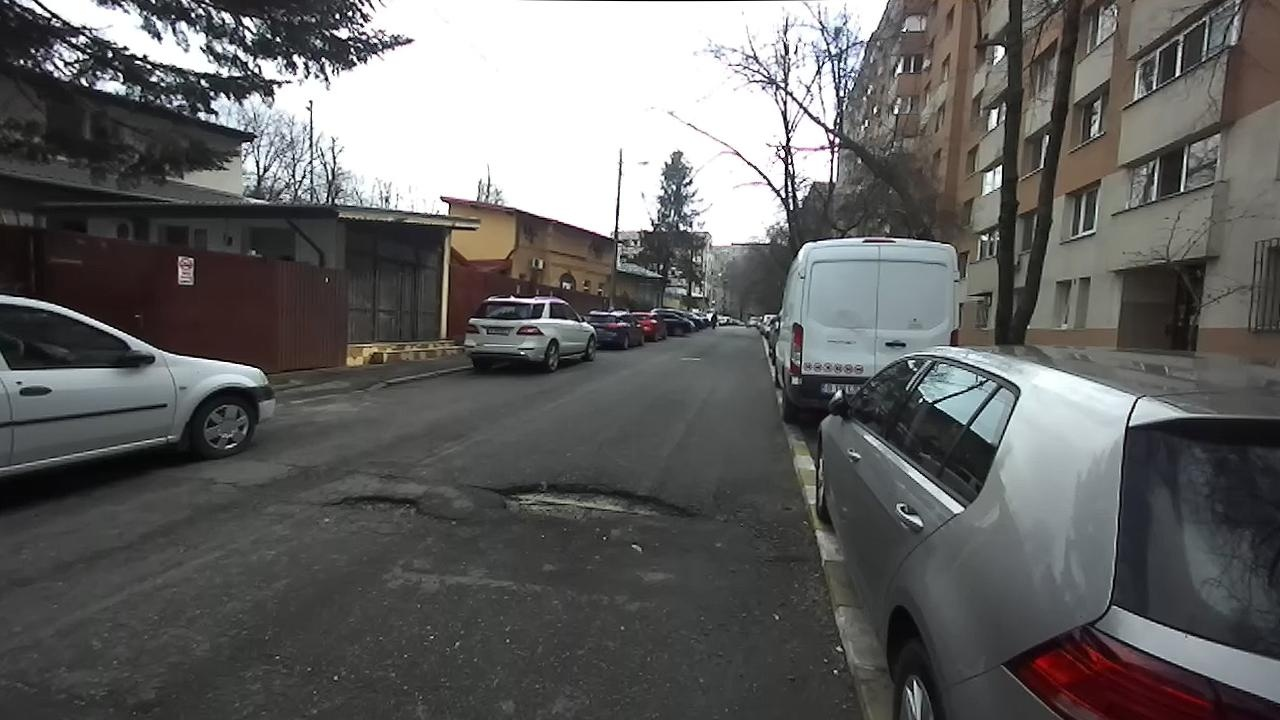pothole: (466, 478, 710, 536), (323, 490, 461, 527)
